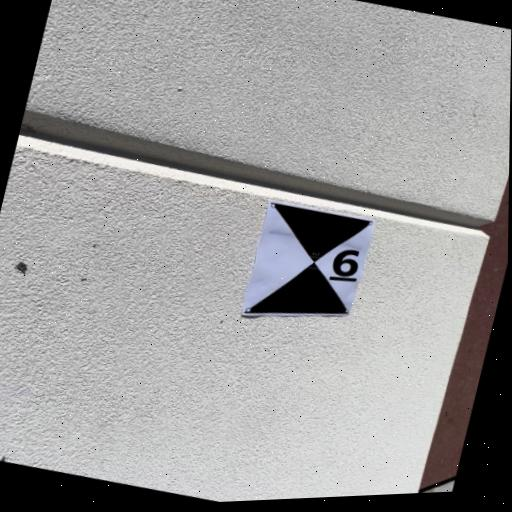target6: (240, 200, 377, 316)
